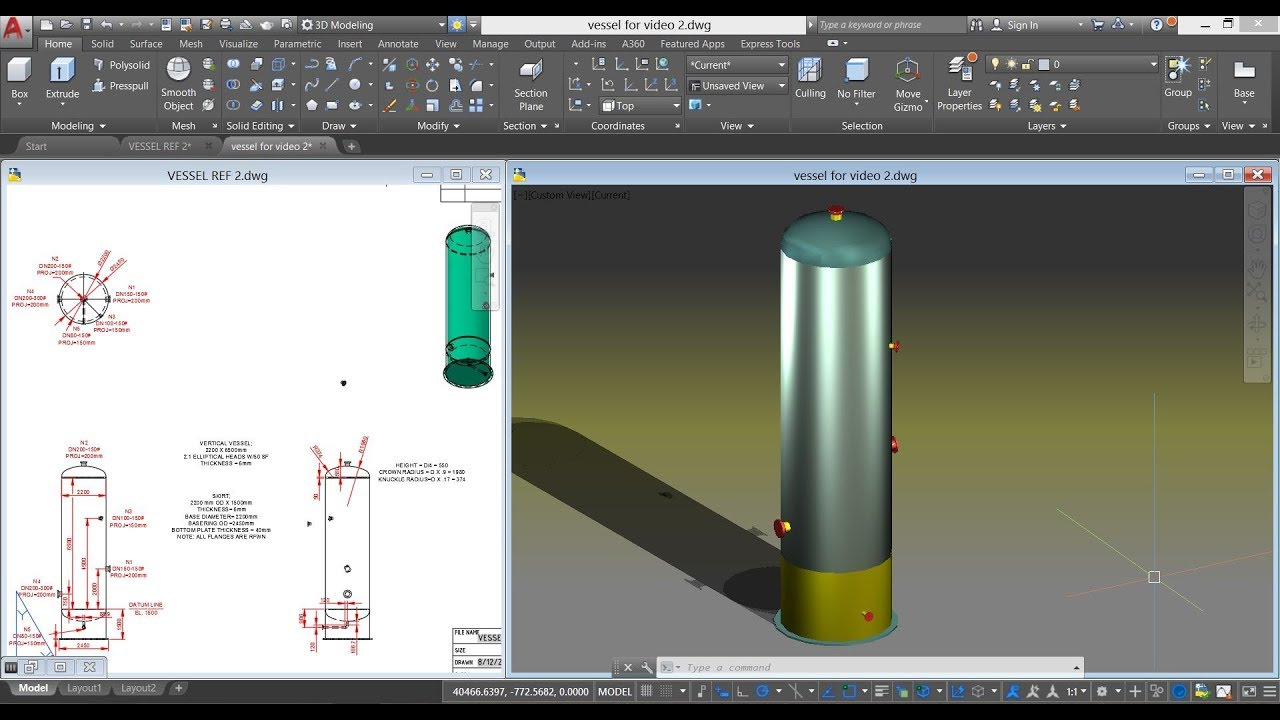nozzle: (768, 510, 796, 547), (818, 194, 851, 225), (856, 603, 883, 631), (888, 433, 908, 461), (887, 331, 904, 360)
